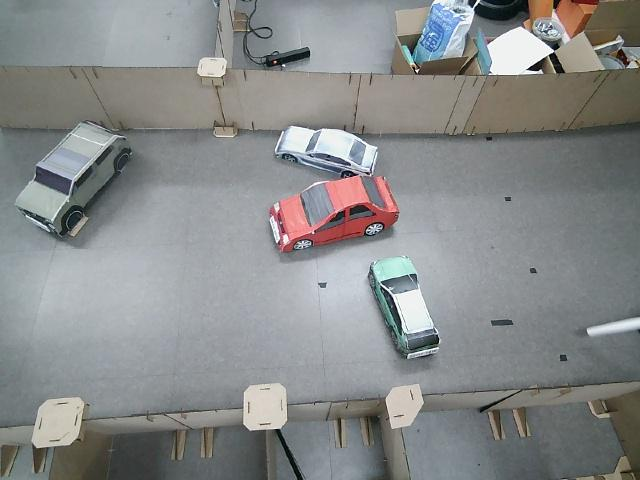car: (11, 114, 144, 241), (266, 172, 404, 261), (361, 256, 452, 363), (270, 117, 382, 181)
